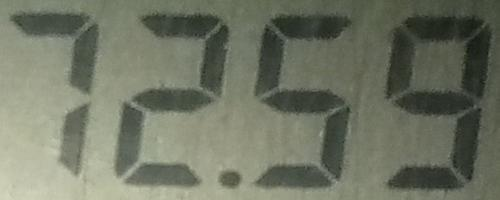.: (216, 169, 242, 189)
